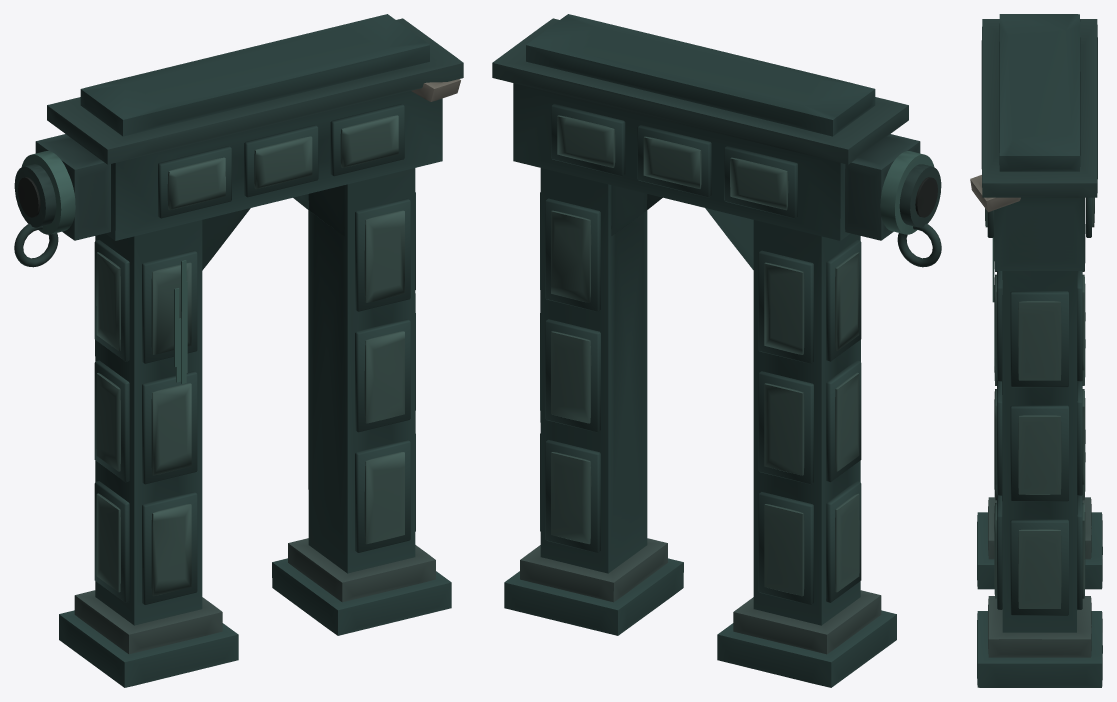
File: intake_gantry_b_lod1.glb
3 views of the same model, side by side, from view 1: azimuth 30°, elevation 25°; view 2: azimuth 150°, elevation 25°; view 3: azimuth 270°, elevation 25° (orthographic). The views are drawn at different scales.
Visible parts, largest first — view 1: Surface.001; view 2: Surface.001; view 3: Surface.001.
Part boxes in pixels (box(x1,y1,x2,y2)): Surface.001: box(14, 14, 463, 687); Surface.001: box(492, 14, 941, 687); Surface.001: box(970, 14, 1102, 687).
Size of the model in its own units: 14.55 by 18.52 by 4.21.
